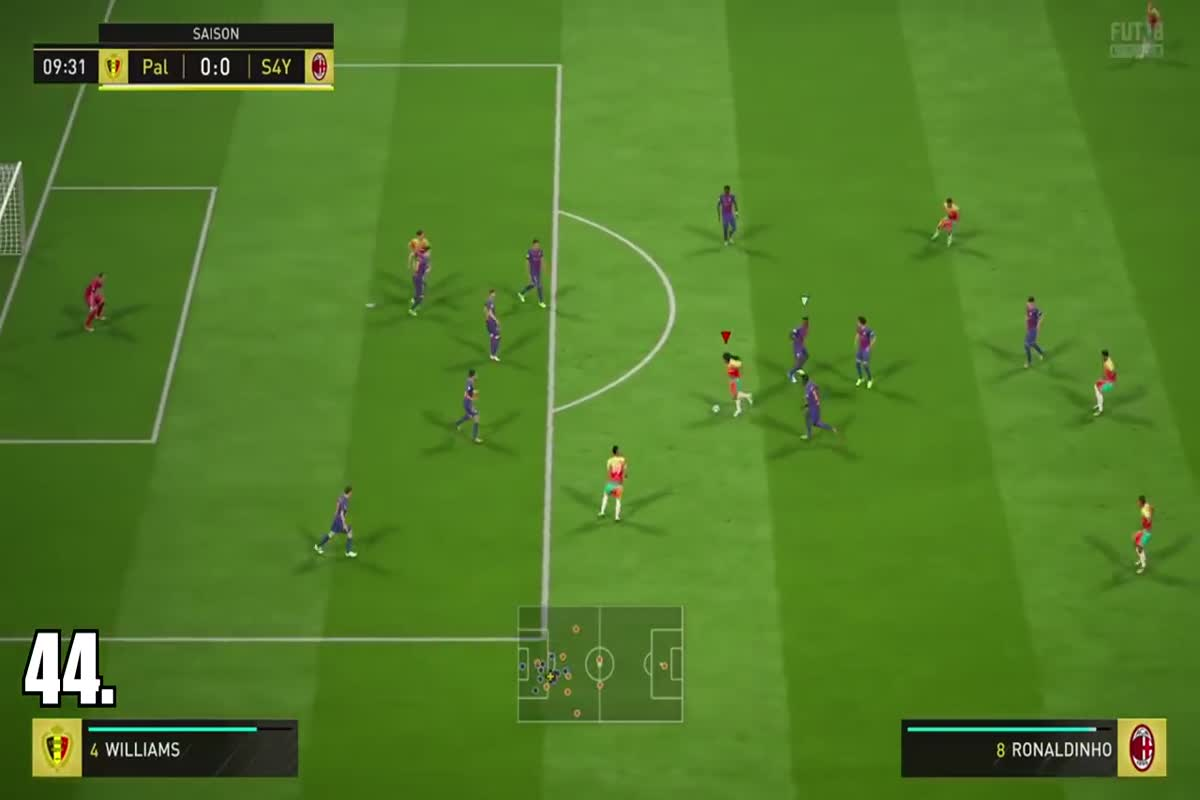ball: (704, 398, 728, 419)
